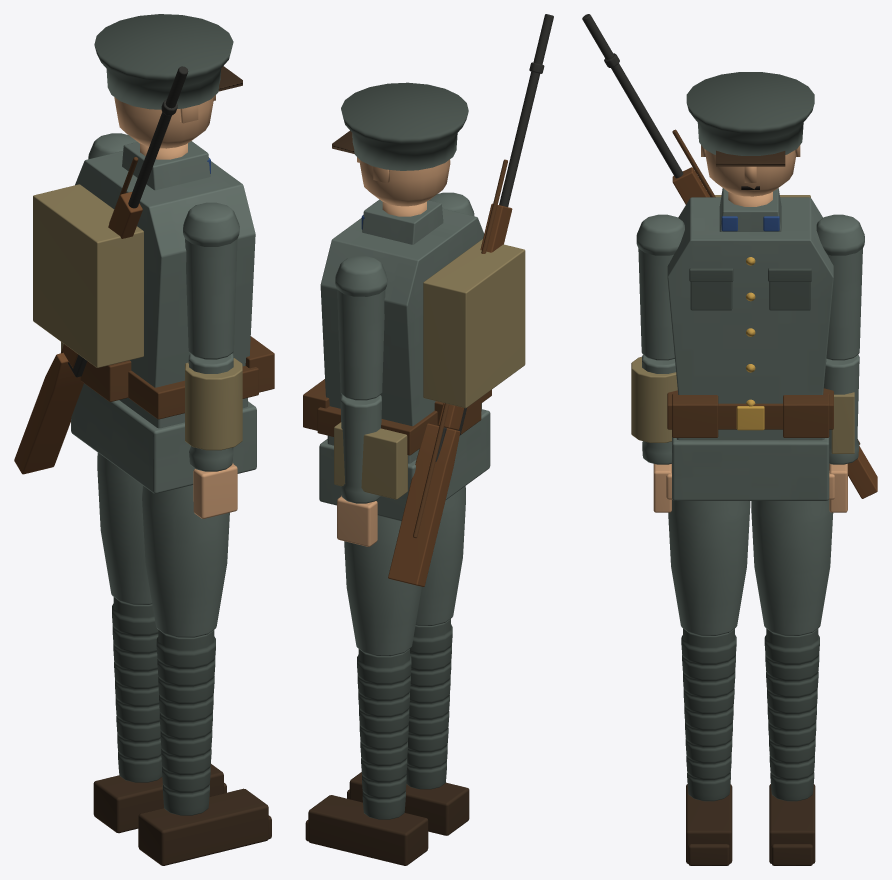
File: crew_enemy.glb
The picture shows the model from 3 angles, left to right: view 1: azimuth 30°, elevation 25°; view 2: azimuth 150°, elevation 25°; view 3: azimuth 270°, elevation 25°; orthographic projection. The views are drawn at different scales.
Visible parts, largest first — view 1: TorsoMesh, HeadMeshMesh, ThighRMesh, ShinRMesh, PelvisMesh, ShinLMesh, RifleMeshMesh, UpperArmRMesh, FootRMesh, ThighLMesh, FootLMesh, HandMeshRMesh (+2 smaller); view 2: TorsoMesh, HeadMeshMesh, RifleMeshMesh, ShinLMesh, ThighLMesh, ShinRMesh, UpperArmLMesh, FootLMesh, PelvisMesh, ThighRMesh, ForearmLMesh, FootRMesh (+2 smaller); view 3: TorsoMesh, HeadMeshMesh, PelvisMesh, ThighLMesh, ThighRMesh, ShinLMesh, ShinRMesh, UpperArmRMesh, UpperArmLMesh, RifleMeshMesh, FootLMesh, FootRMesh (+4 smaller).
Boxes of the visible parts, x1,y1,x2,y2 form: TorsoMesh: [33, 141, 274, 450]; HeadMeshMesh: [94, 14, 242, 159]; ThighRMesh: [142, 485, 229, 637]; ShinRMesh: [156, 630, 215, 815]; PelvisMesh: [71, 383, 256, 493]; ShinLMesh: [112, 597, 162, 782]; RifleMeshMesh: [14, 66, 188, 474]; UpperArmRMesh: [183, 202, 239, 359]; FootRMesh: [138, 788, 271, 865]; ThighLMesh: [97, 453, 152, 604]; FootLMesh: [93, 764, 226, 833]; HandMeshRMesh: [193, 463, 237, 518]; TorsoMesh: [303, 199, 525, 499]; HeadMeshMesh: [332, 82, 468, 216]; RifleMeshMesh: [388, 14, 553, 586]; ShinLMesh: [357, 649, 411, 819]; ThighLMesh: [344, 515, 421, 656]; ShinRMesh: [406, 619, 452, 789]; UpperArmLMesh: [335, 256, 387, 400]; FootLMesh: [305, 795, 428, 865]; PelvisMesh: [319, 403, 490, 521]; ThighRMesh: [415, 486, 465, 625]; ForearmLMesh: [340, 395, 381, 503]; FootRMesh: [347, 772, 469, 835]; TorsoMesh: [631, 188, 854, 453]; HeadMeshMesh: [686, 72, 814, 206]; PelvisMesh: [672, 429, 829, 500]; ThighLMesh: [751, 500, 833, 635]; ThighRMesh: [668, 499, 750, 635]; ShinLMesh: [764, 628, 819, 801]; ShinRMesh: [681, 628, 736, 801]; UpperArmRMesh: [636, 214, 684, 360]; UpperArmLMesh: [816, 214, 864, 360]; RifleMeshMesh: [582, 14, 877, 498]; FootLMesh: [769, 784, 815, 865]; FootRMesh: [686, 784, 732, 865].
Bounding box in the file's own units: 0.405 × 1.88 × 0.6388.
11 materials, 1 textured.
